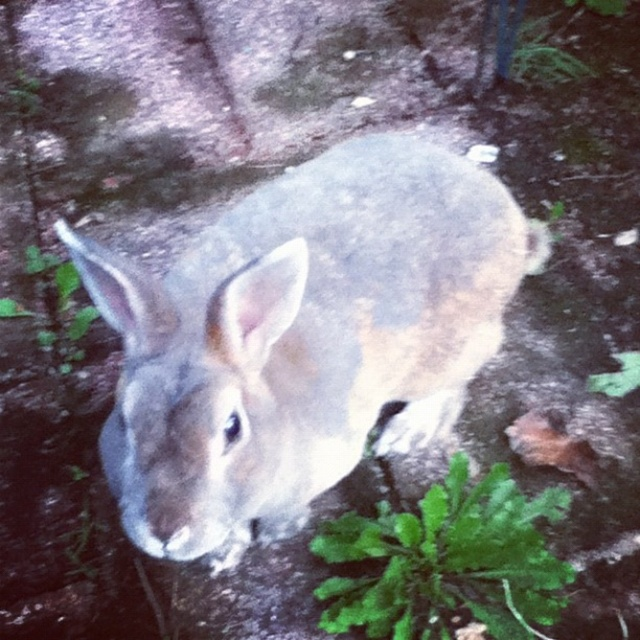Rabbit: (50, 137, 553, 576)
